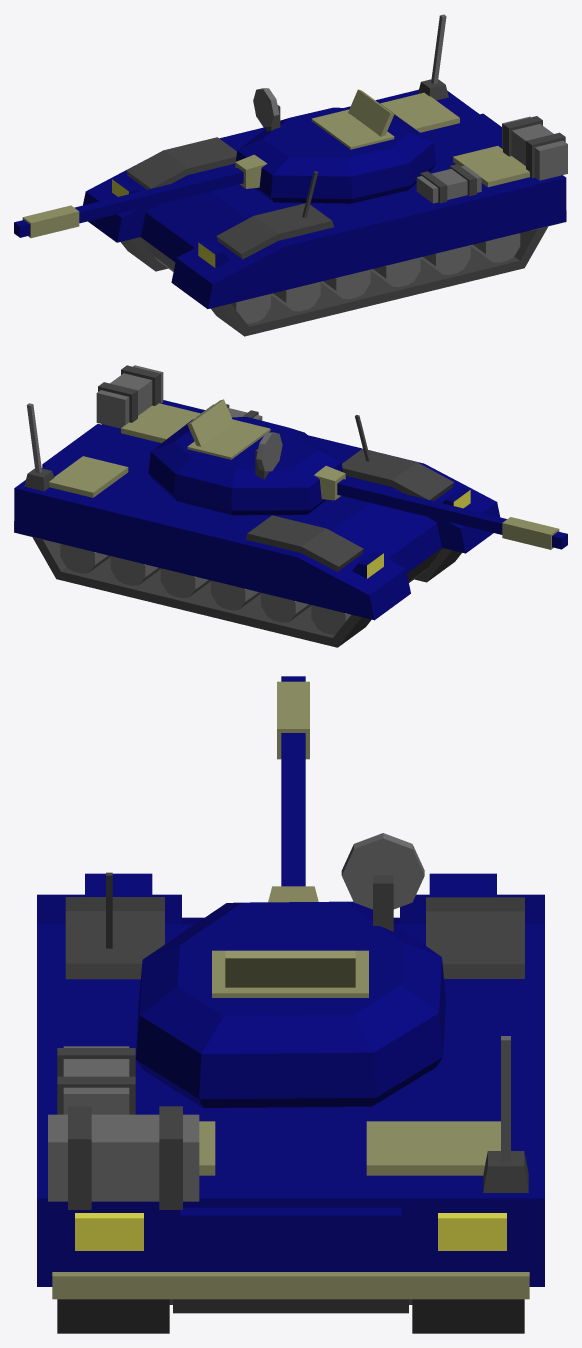
The model's file is tank_blue_0.glb.
3 renders of one model, top to bottom at view 1: azimuth 30°, elevation 25°; view 2: azimuth 150°, elevation 25°; view 3: azimuth 270°, elevation 25°, orthographic. The views are drawn at different scales.
Parts seen in each view (by area): view 1: Cube.002; view 2: Cube.002; view 3: Cube.002.
Part boxes in pixels (x1,y1,x2,y2): Cube.002: [14, 14, 567, 336]; Cube.002: [14, 365, 567, 647]; Cube.002: [37, 676, 544, 1333].
Size of the model in its own units: 1 by 0.3154 by 0.4462.
